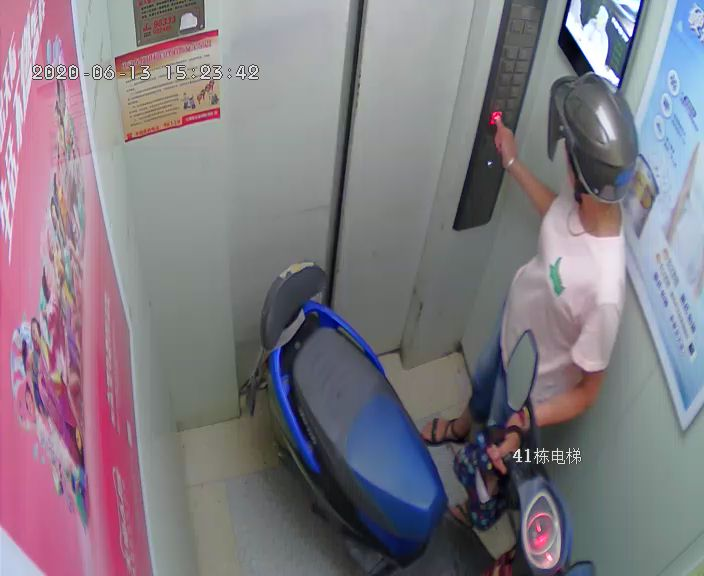Electric-bicycle: (260, 264, 571, 569)
